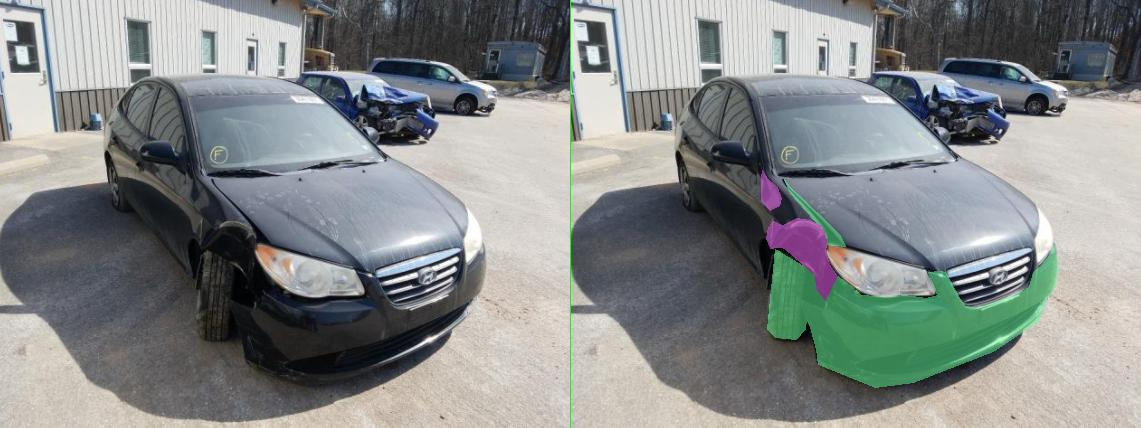Broken part: (454, 244, 973, 387), (426, 179, 548, 246), (392, 249, 478, 339)
Dent: (390, 218, 532, 300), (380, 170, 420, 210)
